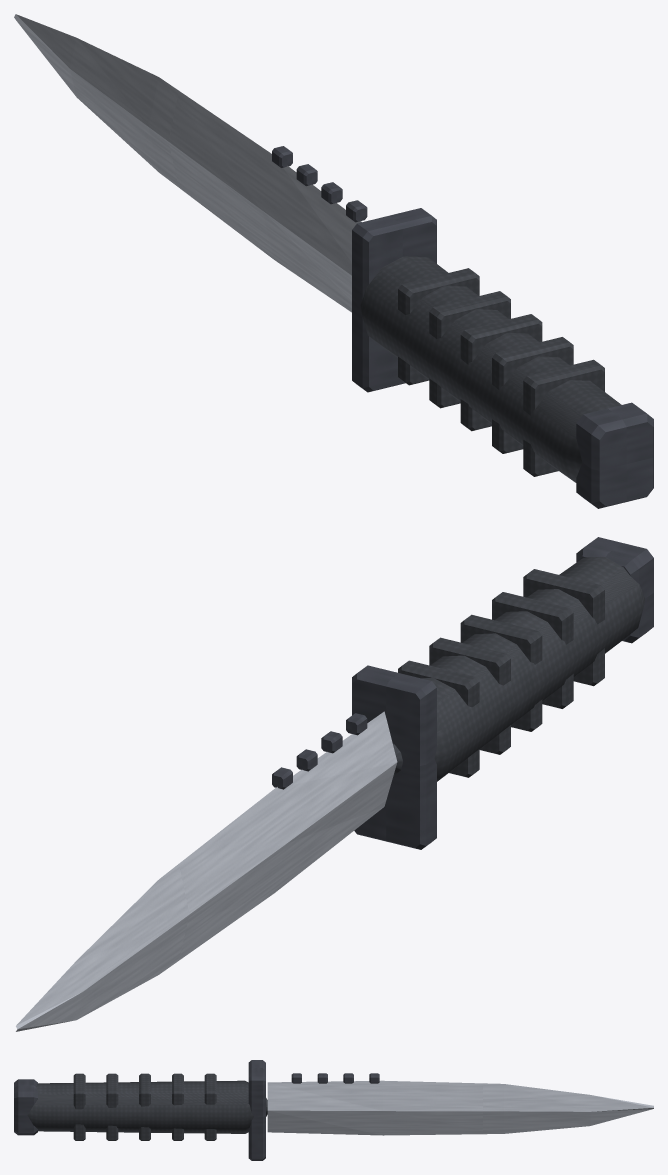
Rendered from weapon_knife.glb.
The picture shows the model from 3 angles, top to bottom: view 1: azimuth 30°, elevation 25°; view 2: azimuth 150°, elevation 25°; view 3: azimuth 270°, elevation 25°; orthographic projection. The views are drawn at different scales.
Parts seen in each view (by area): view 1: WeaponRoot; view 2: WeaponRoot; view 3: WeaponRoot.
Part boxes in pixels (x1,y1,x2,y2): WeaponRoot: (14, 14, 653, 508); WeaponRoot: (16, 537, 653, 1031); WeaponRoot: (14, 1060, 653, 1160).
Bounding box in the file's own units: 0.031 × 0.054 × 0.371.
3 materials, 3 textured.
